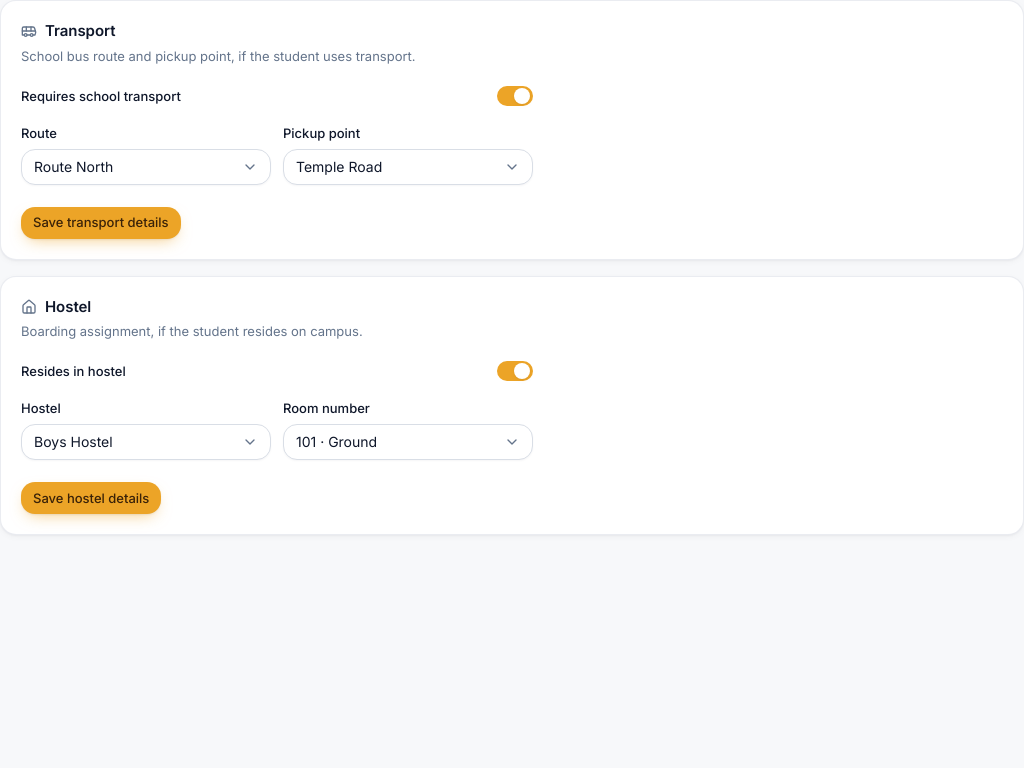
Test: Transport & Hostel tab › fills the pickers with what was saved, and offers only the master lists
Check: the dropdown named "Pickup point" reads "Temple Road", box x1=283 y1=149 x2=533 y2=185
Check: the dropdown labelled "Hostel" reads "Boys Hostel", box x1=21 y1=424 x2=271 y2=460
What coordinates should you click on to do the following:
click the dropdown labelled "Route"
I would click on:
 (146, 167)
Its box is x1=21 y1=149 x2=271 y2=185.
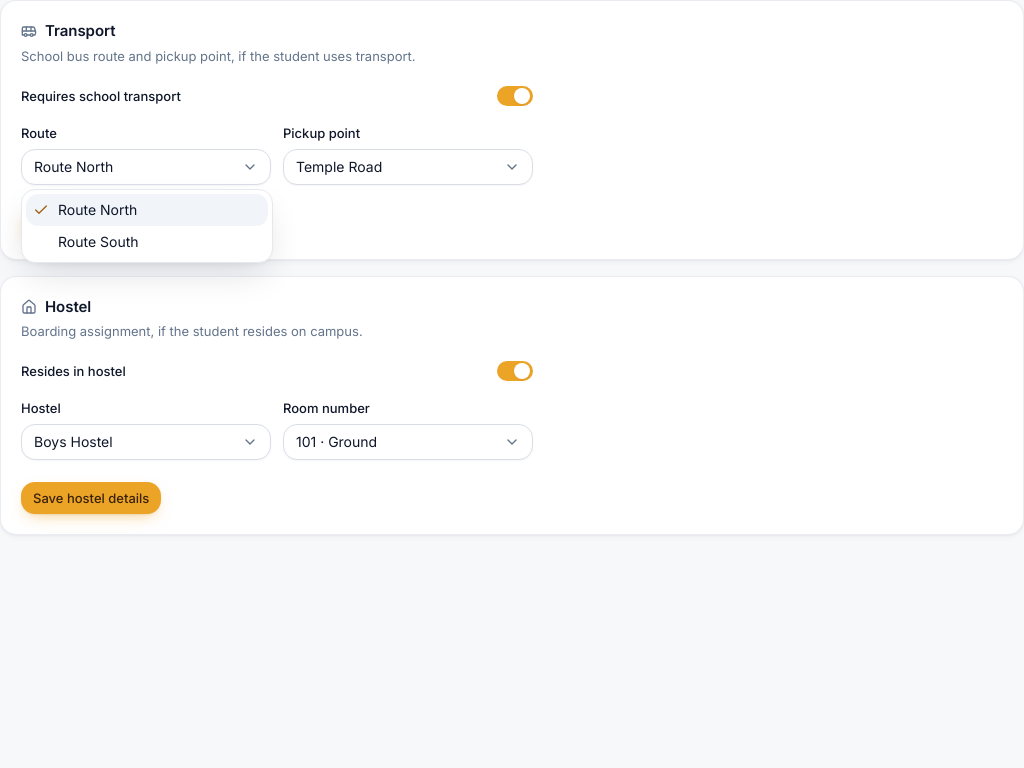
Check: the option "Route South" is shown, box x1=58 y1=233 x2=138 y2=250
